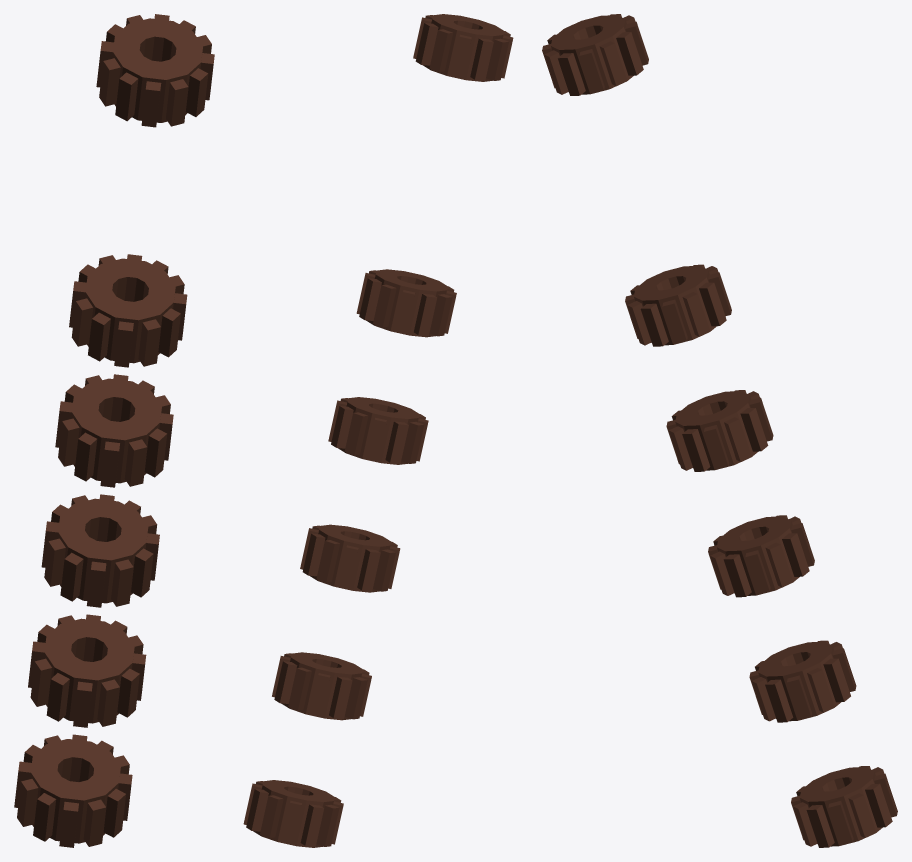
Rendered from Gear_01.fbx.
3 views of the same model, side by side, from view 1: azimuth 30°, elevation 25°; view 2: azimuth 150°, elevation 25°; view 3: azimuth 270°, elevation 25° (orthographic). The views are drawn at different scales.
Parts seen in each view (by area): view 1: Building.009; view 2: Building.009; view 3: Building.009.
Part boxes in pixels (x1,y1,x2,y2): Building.009: (14, 14, 214, 847); Building.009: (243, 14, 513, 847); Building.009: (542, 14, 897, 847).
Size of the model in its own units: 1.49 by 7.94 by 3.24.
